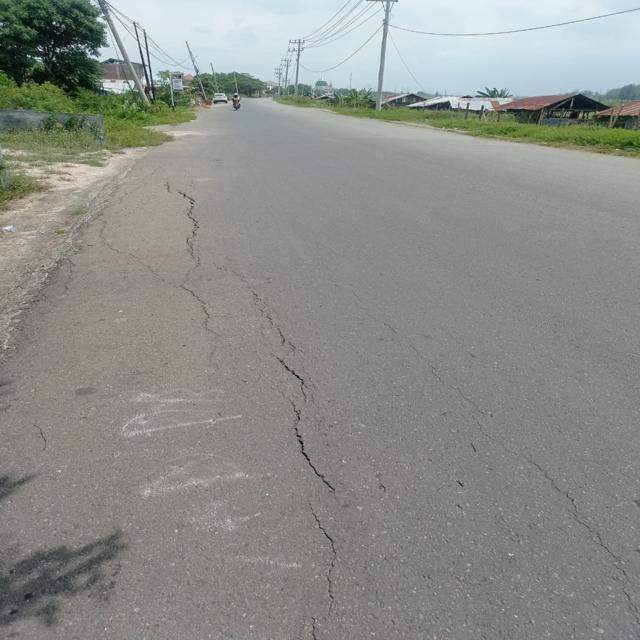Memanjang: (256, 285, 346, 518), (158, 172, 205, 298)
